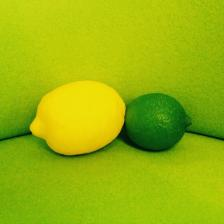green: (126, 93, 192, 151)
